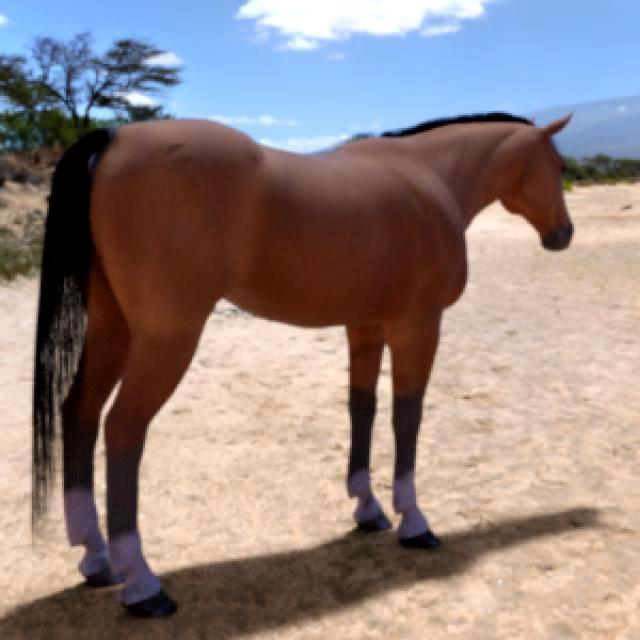horse: (34, 112, 574, 617)
